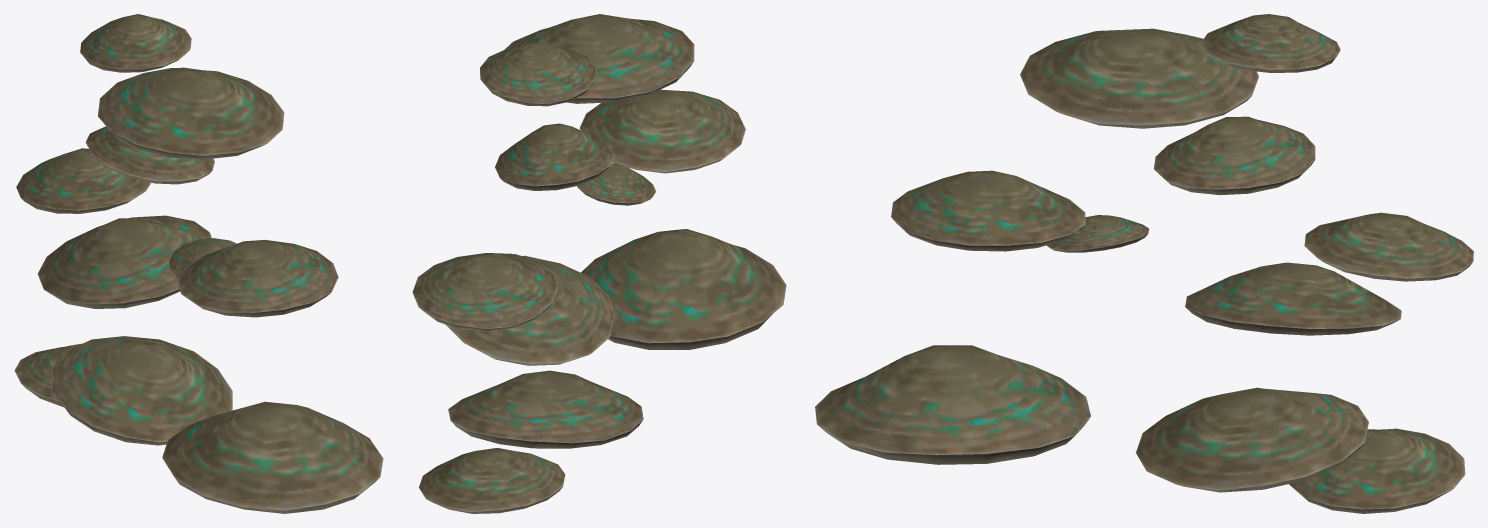
File: Mushroom_04_Group_03.fbx
3 renders of one model, left to right at view 1: azimuth 30°, elevation 25°; view 2: azimuth 150°, elevation 25°; view 3: azimuth 270°, elevation 25°, orthographic. The views are drawn at different scales.
Parts seen in each view (by area): view 1: Mushroom_04_Group_03_LOD0; view 2: Mushroom_04_Group_03_LOD0; view 3: Mushroom_04_Group_03_LOD0.
Part boxes in pixels (bbox=[...]): Mushroom_04_Group_03_LOD0: bbox=[14, 14, 383, 513]; Mushroom_04_Group_03_LOD0: bbox=[412, 14, 786, 513]; Mushroom_04_Group_03_LOD0: bbox=[815, 14, 1473, 513].
Size of what is drawn, in the model's own units: 0.4742 by 1.01 by 1.3.
